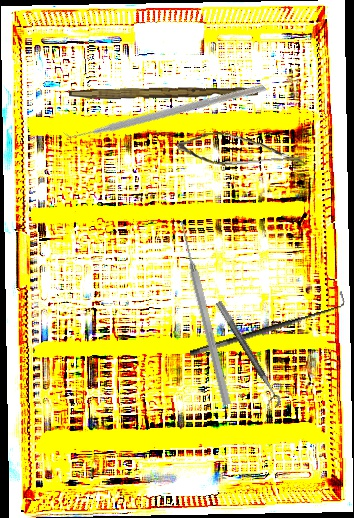Chopper: (55, 1, 268, 214)
Fixation Ring: (206, 299, 284, 413)
Hook Surgical: (185, 290, 348, 359)
Micro Scissor: (176, 124, 308, 175)
Pusher: (175, 219, 234, 407)
Scalpel Handle: (68, 83, 259, 104)
